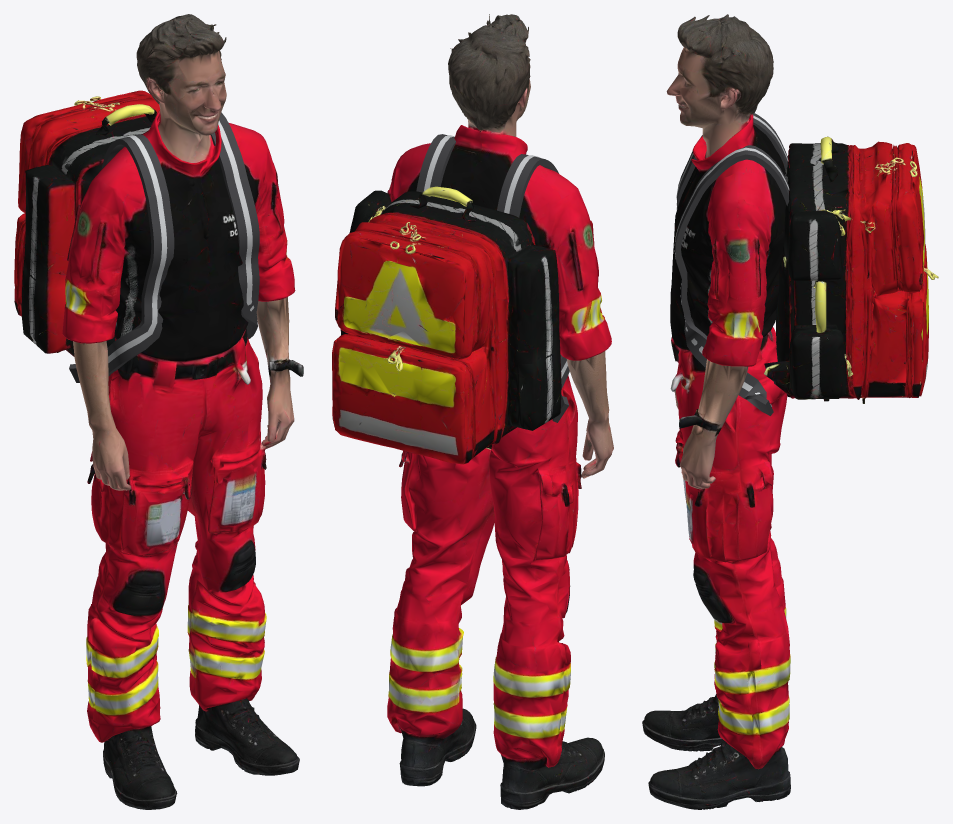
File: ambulance-medic.glb
The picture shows the model from 3 angles, left to right: view 1: azimuth 30°, elevation 25°; view 2: azimuth 150°, elevation 25°; view 3: azimuth 270°, elevation 25°; orthographic projection.
Parts seen in each view (by area): view 1: medic, backpack, straps; view 2: medic, backpack, straps; view 3: medic, backpack, straps.
Boxes of the visible parts, x1,y1,x2,y2 form: medic: (62, 14, 303, 809); backpack: (14, 90, 159, 356); straps: (69, 112, 259, 382); medic: (387, 14, 613, 809); backpack: (332, 186, 561, 464); straps: (416, 134, 569, 422); medic: (642, 14, 790, 809); backpack: (764, 136, 938, 403); straps: (674, 113, 789, 415).
Size of the model in its own units: 0.5586 by 1.78 by 0.6365.
4 materials, 2 textured.
